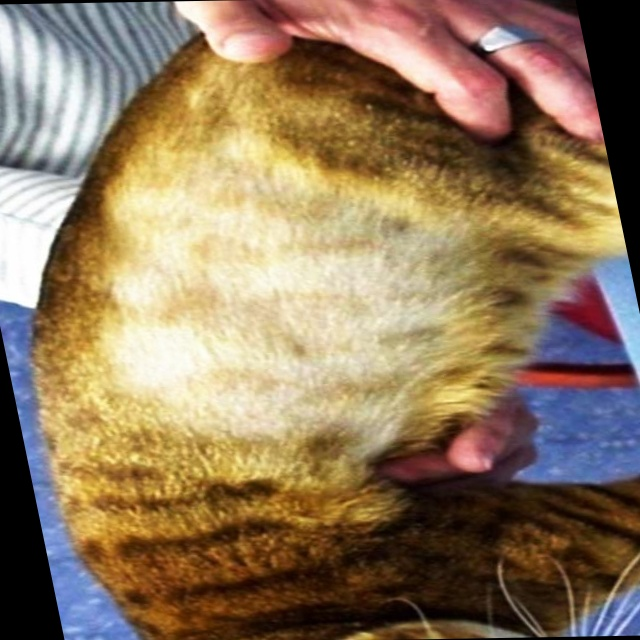hairloss: (46, 200, 503, 455)
